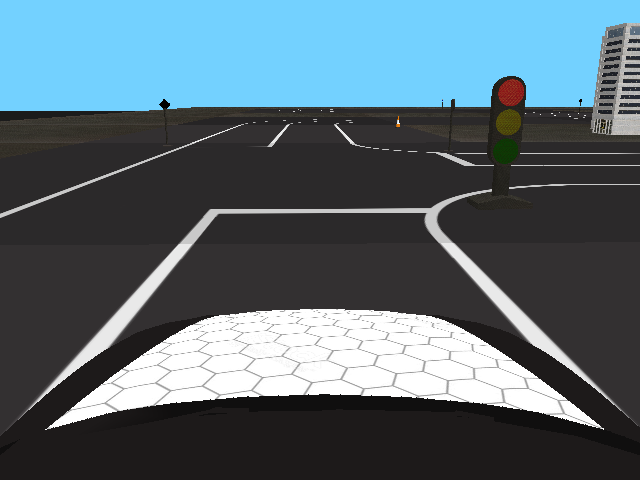red_light: (488, 76, 526, 166)
